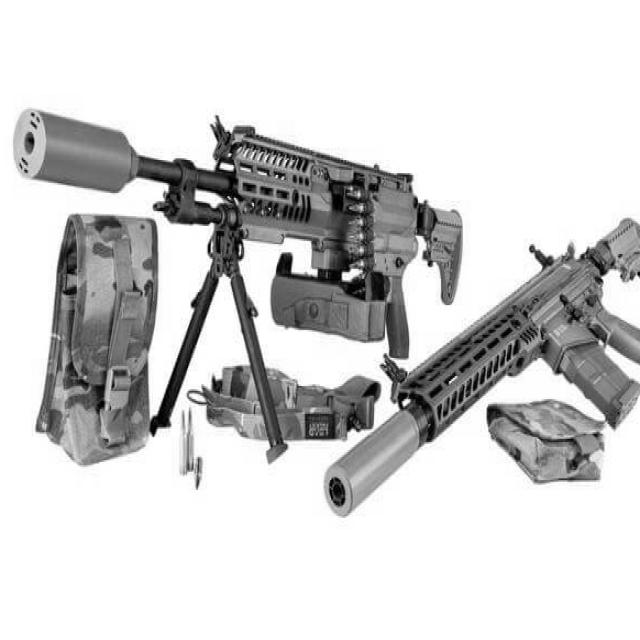Weapon: (15, 111, 462, 356), (327, 219, 640, 513)
